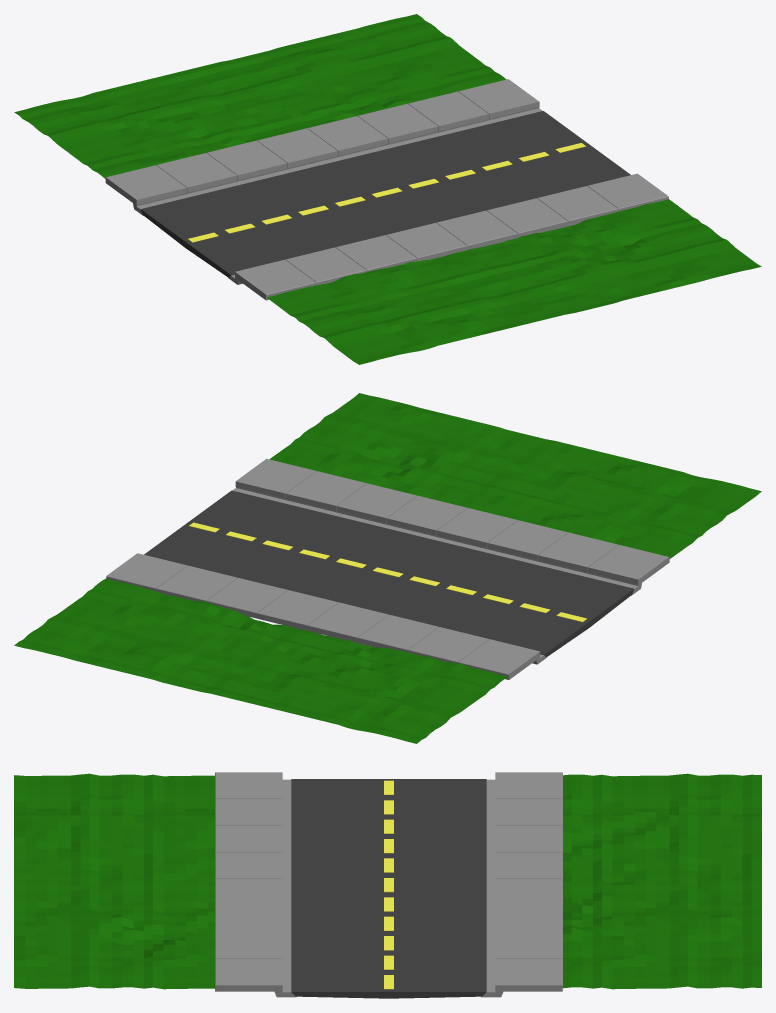
The model's file is Straße.fbx.
3 views of the same model, one above another, from view 1: azimuth 30°, elevation 25°; view 2: azimuth 150°, elevation 25°; view 3: azimuth 270°, elevation 25° (orthographic). The views are drawn at different scales.
Visible parts, largest first — view 1: Wiese, Straße; view 2: Wiese, Straße; view 3: Wiese, Straße.
Part boxes in pixels (x1,y1,x2,y2): Wiese: (14, 14, 761, 364); Straße: (105, 79, 668, 300); Wiese: (14, 393, 761, 743); Straße: (106, 458, 669, 679); Wiese: (14, 773, 761, 989); Straße: (215, 772, 562, 998).
Size of the model in its own units: 866 by 26.07 by 1284.
